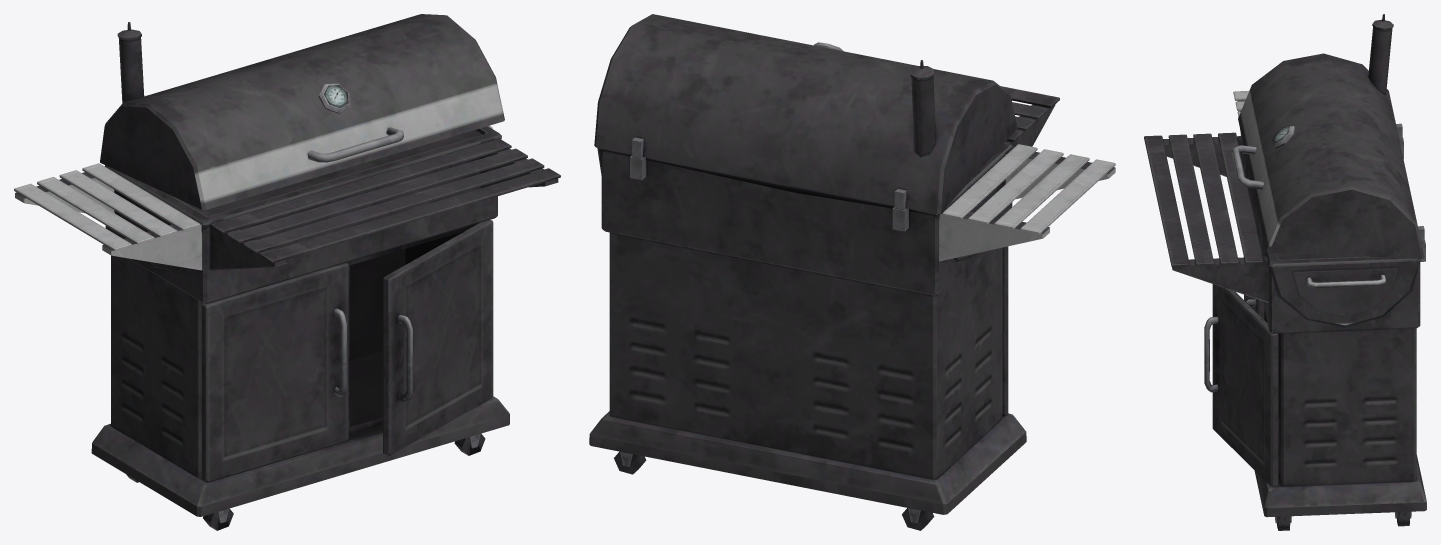
File: Uptown_BarbequeGrill01.fbx
3 renders of one model, left to right at view 1: azimuth 30°, elevation 25°; view 2: azimuth 150°, elevation 25°; view 3: azimuth 270°, elevation 25°, orthographic. The views are drawn at different scales.
Visible parts, largest first — view 1: ItemBox_BarbequeGrill_01_0_6; view 2: ItemBox_BarbequeGrill_01_0_6; view 3: ItemBox_BarbequeGrill_01_0_6.
Boxes of the visible parts, x1=… form: ItemBox_BarbequeGrill_01_0_6: x1=14, y1=14, x2=560, y2=530; ItemBox_BarbequeGrill_01_0_6: x1=589, y1=14, x2=1115, y2=530; ItemBox_BarbequeGrill_01_0_6: x1=1144, y1=14, x2=1426, y2=530.
Size of the model in its own units: 173 by 172 by 112.
1 material, 1 textured.
